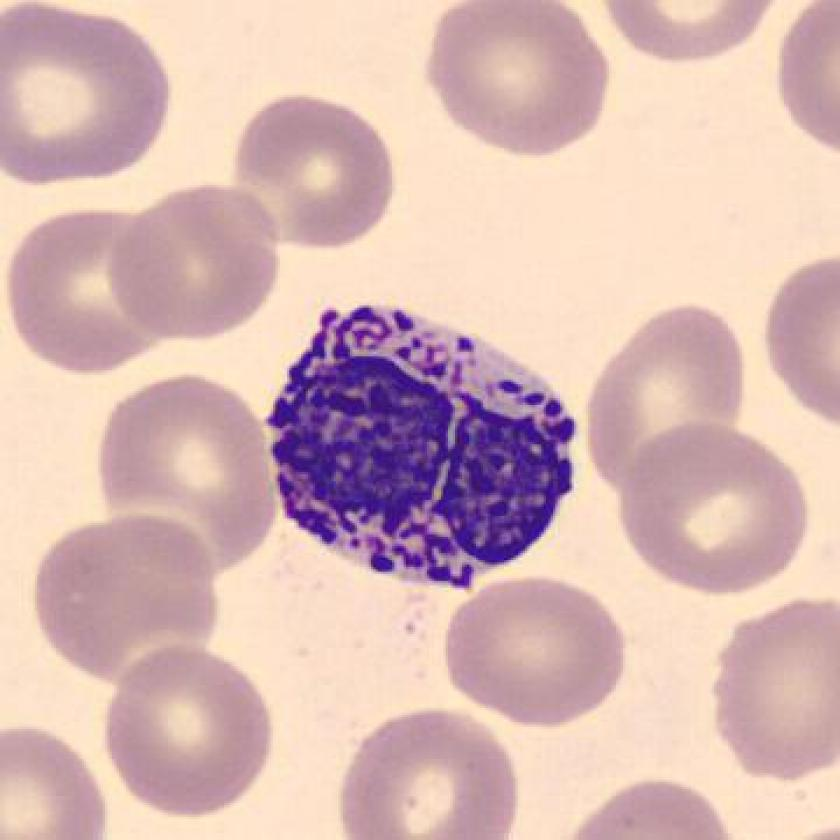basophil: (260, 297, 587, 605)
